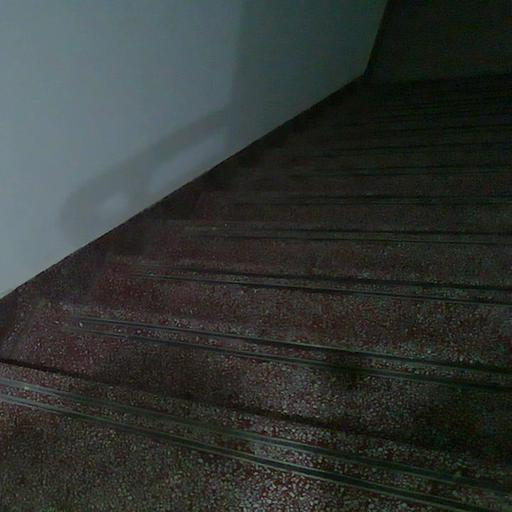Stairs: (0, 75, 512, 512)
